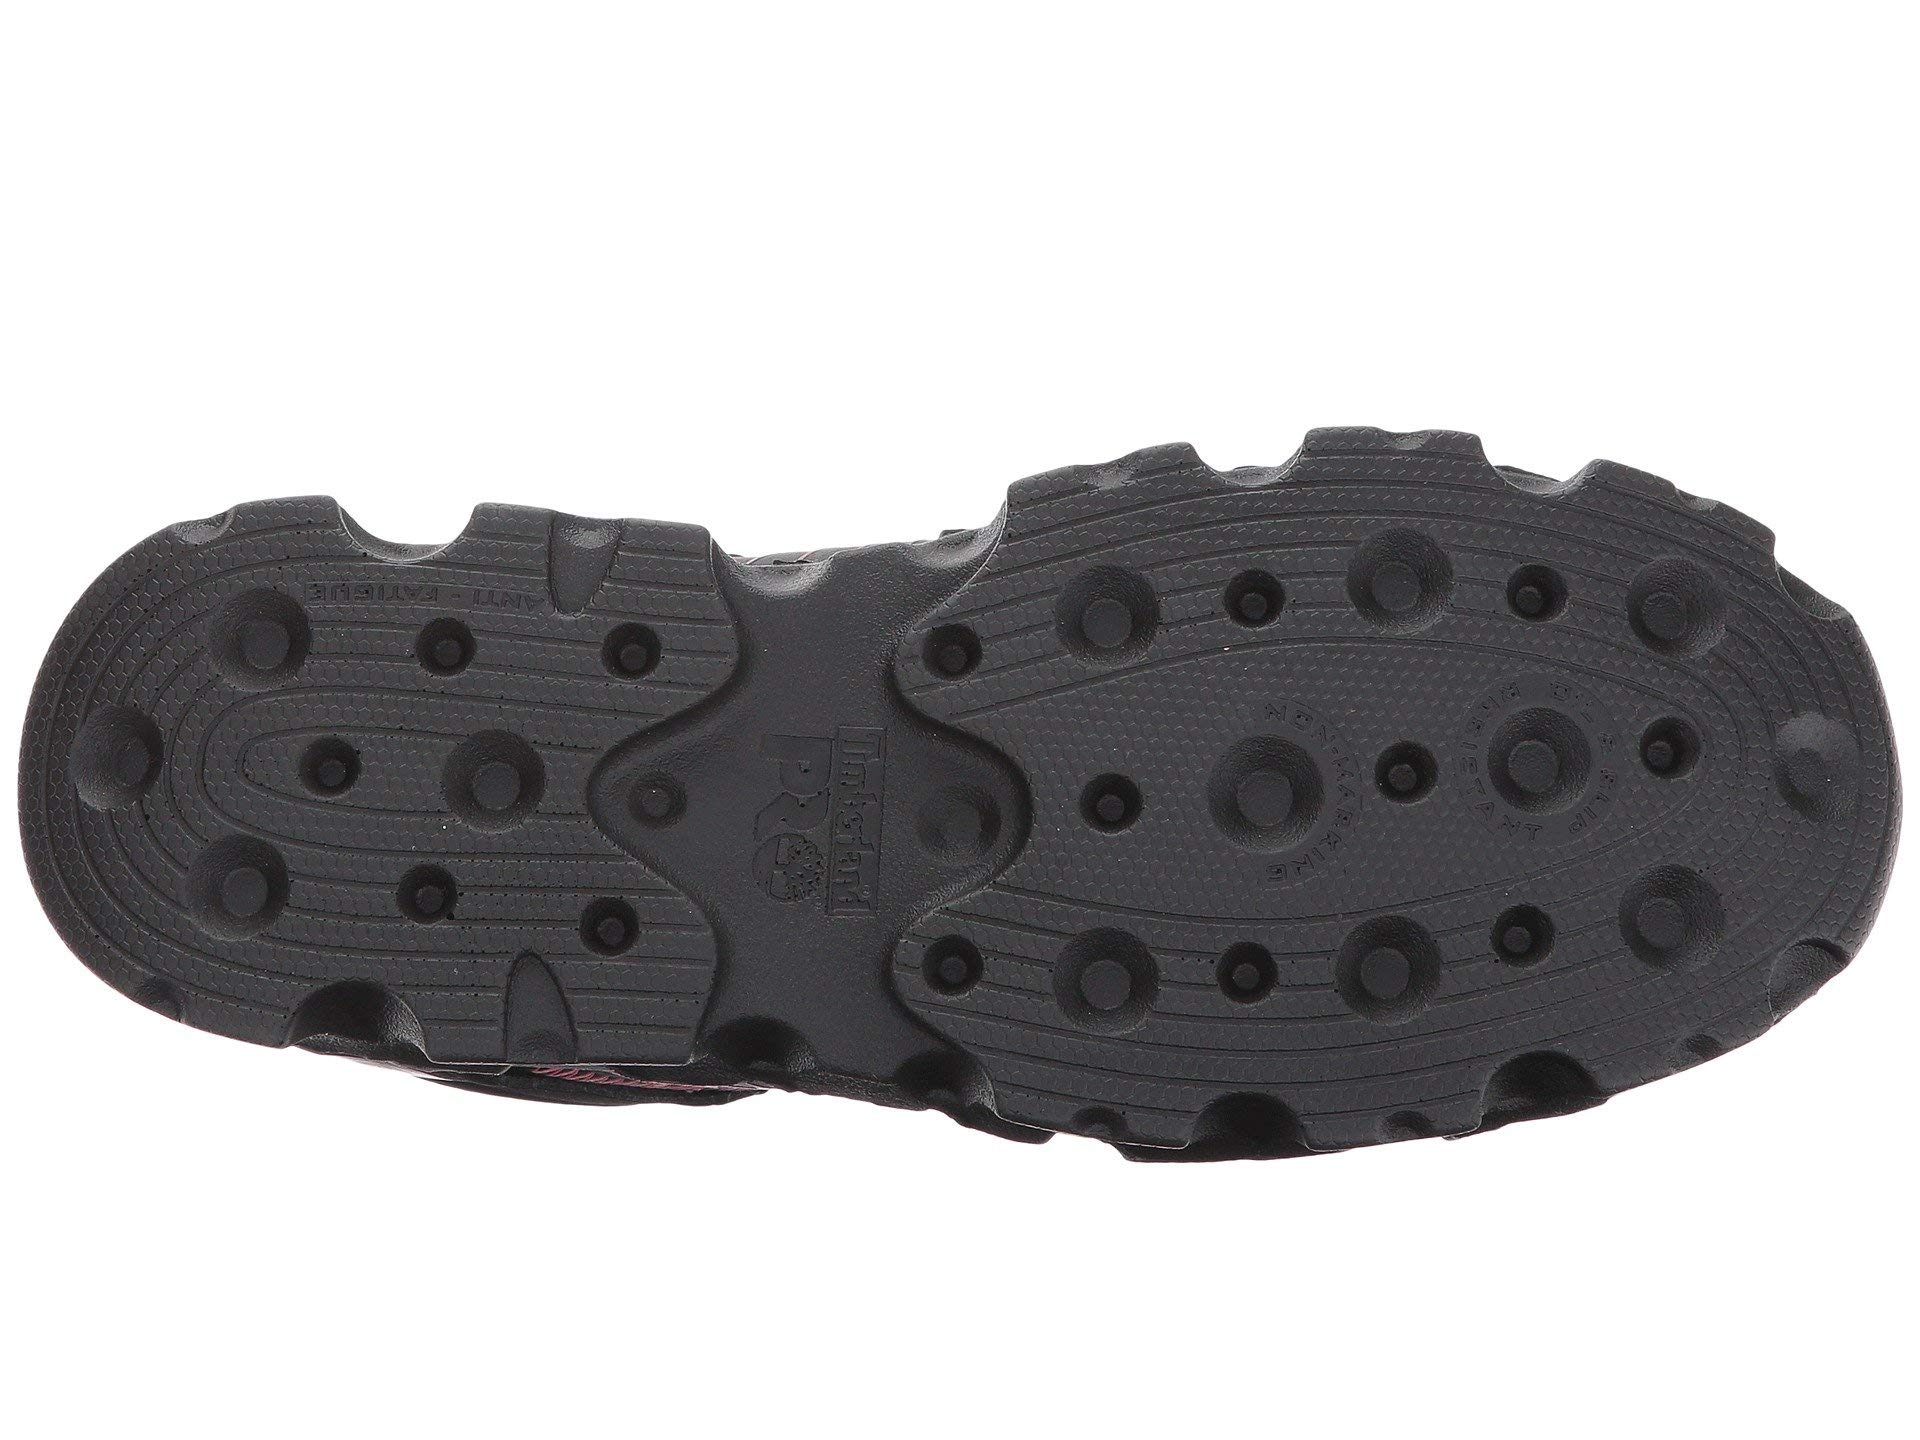circle: (1048, 466, 1308, 688), (1445, 658, 1654, 865), (1194, 700, 1386, 892), (723, 700, 828, 930)
line: (1048, 466, 1308, 688), (1445, 658, 1654, 865), (290, 573, 558, 623)
other: (723, 700, 828, 930)
polygon: (1048, 466, 1308, 688), (1445, 658, 1654, 865), (1194, 700, 1386, 892), (290, 573, 558, 623)
quad: (830, 711, 893, 930)
text: (1445, 658, 1654, 865), (1194, 700, 1386, 892), (723, 700, 828, 930), (830, 711, 893, 930), (290, 573, 558, 623)
